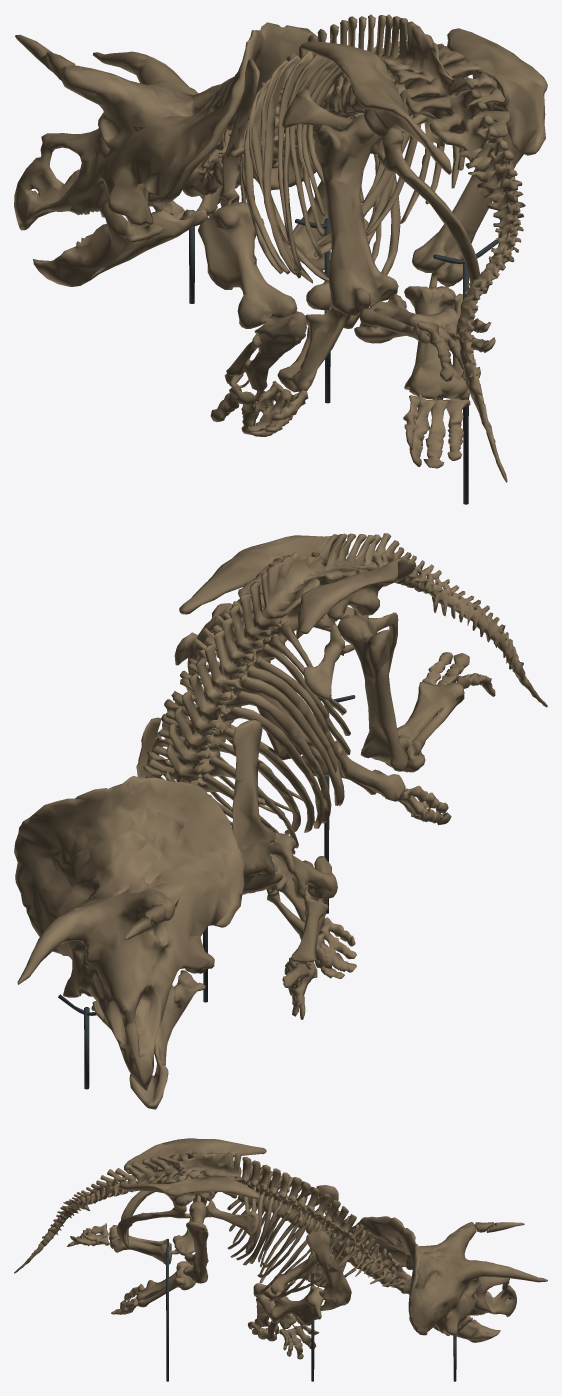
3 renders of one model, top to bottom at view 1: azimuth 30°, elevation 25°; view 2: azimuth 150°, elevation 25°; view 3: azimuth 270°, elevation 25°, orthographic. The views are drawn at different scales.
Parts seen in each view (by area): view 1: F01_SPEC_Fossil ridge.001_export, F01_SPEC_Mount steel.001_export; view 2: F01_SPEC_Fossil ridge.001_export, F01_SPEC_Mount steel.001_export; view 3: F01_SPEC_Fossil ridge.001_export, F01_SPEC_Mount steel.001_export.
Boxes of the visible parts, left/top/right/bottom form: F01_SPEC_Fossil ridge.001_export: left=14, top=14, right=547, bottom=482; F01_SPEC_Mount steel.001_export: left=160, top=202, right=498, bottom=504; F01_SPEC_Fossil ridge.001_export: left=14, top=533, right=547, bottom=1109; F01_SPEC_Mount steel.001_export: left=58, top=695, right=355, bottom=1089; F01_SPEC_Fossil ridge.001_export: left=14, top=1138, right=547, bottom=1359; F01_SPEC_Mount steel.001_export: left=166, top=1239, right=456, bottom=1381.
Bounding box in the file's own units: 1.66 × 2.8 × 5.89.
